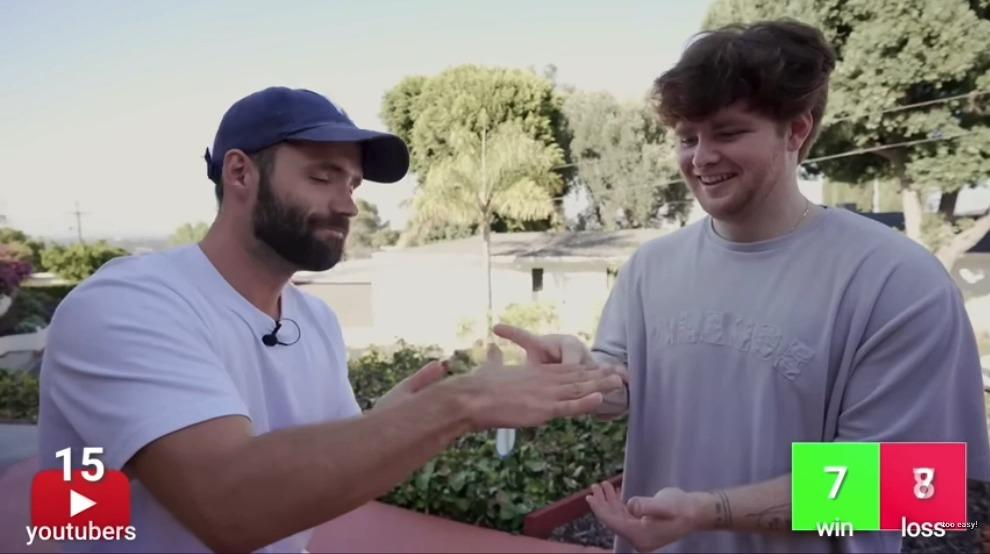Paper: (463, 344, 626, 423)
Scissors: (494, 322, 595, 368)
